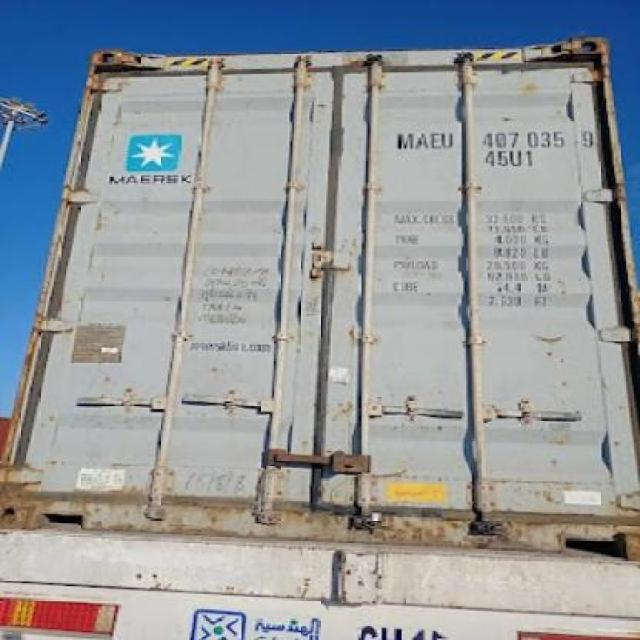ISO: (485, 150, 535, 167)
container_number: (396, 124, 583, 150)
